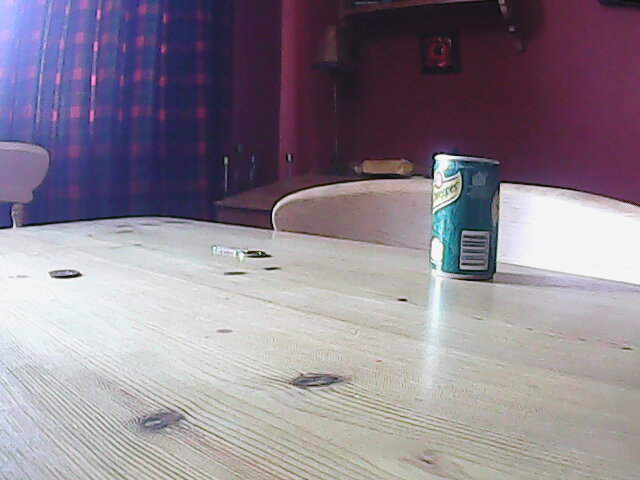Can: (423, 153, 505, 286)
Coin: (44, 264, 83, 281)
Key: (207, 241, 269, 261)
